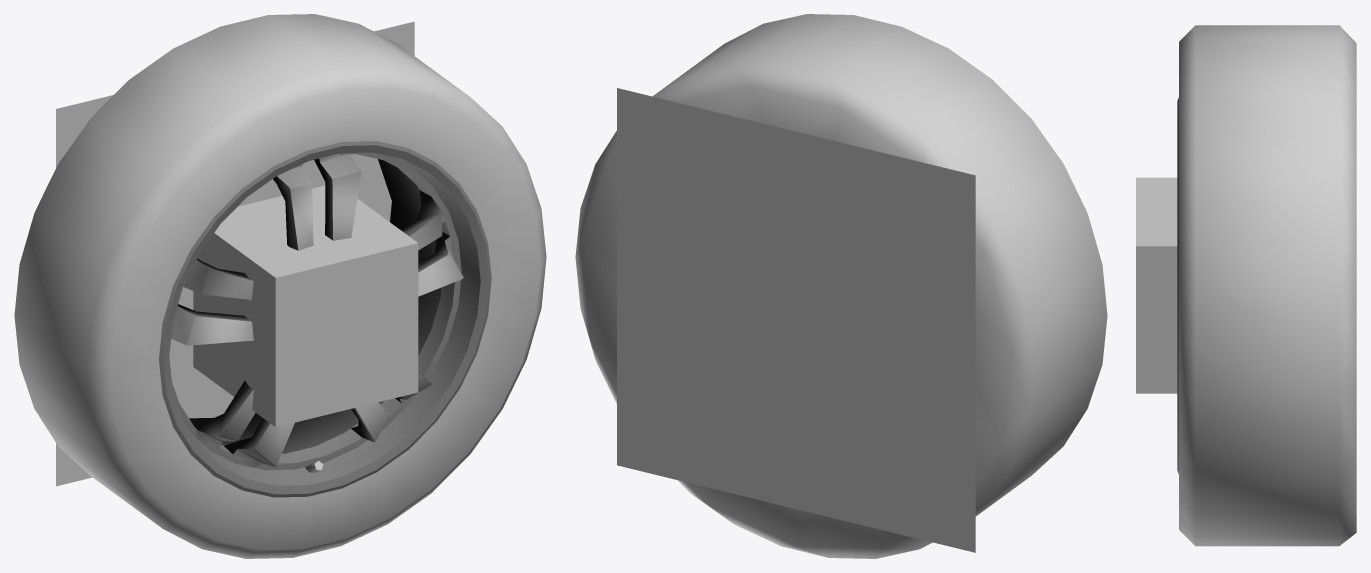
3 views of the same model, side by side, from view 1: azimuth 30°, elevation 25°; view 2: azimuth 150°, elevation 25°; view 3: azimuth 270°, elevation 25° (orthographic).
Parts seen in each view (by area): view 1: TSW_STYLE01_17_25_A, _FRONT_BRAKE_1; view 2: TSW_STYLE01_17_25_A; view 3: TSW_STYLE01_17_25_A, _FRONT_BRAKE_1.
Part boxes in pixels (box(x1,y1,x2,y2)): TSW_STYLE01_17_25_A: box(14, 14, 546, 558); _FRONT_BRAKE_1: box(193, 185, 418, 427); TSW_STYLE01_17_25_A: box(575, 14, 1107, 558); TSW_STYLE01_17_25_A: box(1177, 25, 1356, 546); _FRONT_BRAKE_1: box(1136, 177, 1177, 393).
Size of the model in its own units: 0.6434 by 0.2715 by 0.6399.
